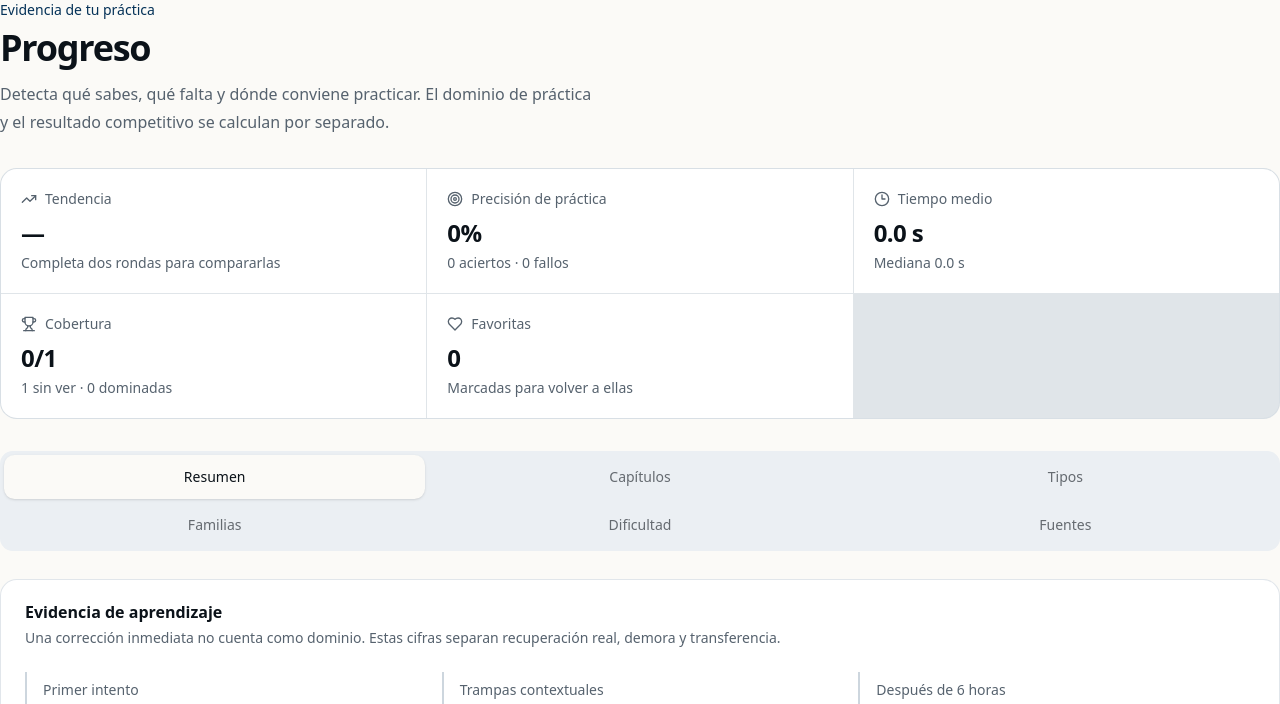
Test: vistas de progreso y revisión › muestra una sola vista estadística a la vez
This screenshot has width=1280, height=704.
Check: the text "Dominio por familia de conocimiento" is not shown
Click the tab "Familias": (215, 525) [4,503,425,547]
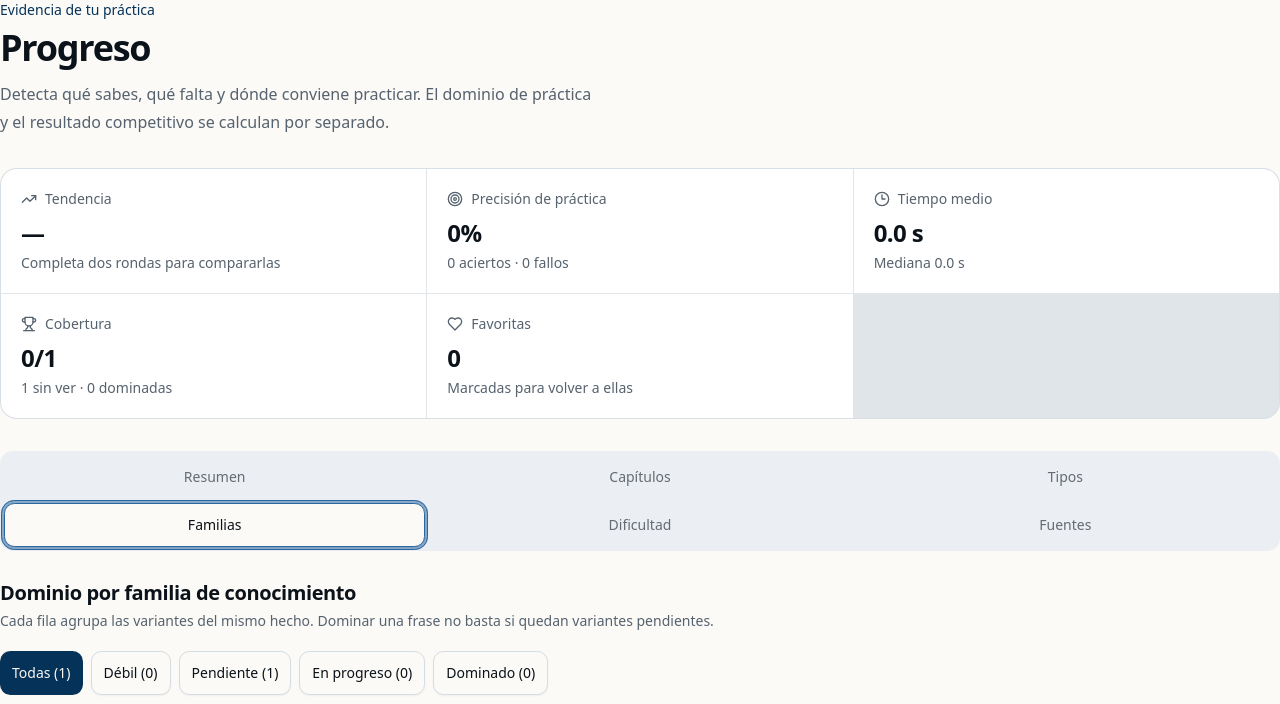
Check: the heading "Dominio por familia de conocimiento" is shown, box [0,579,356,606]
